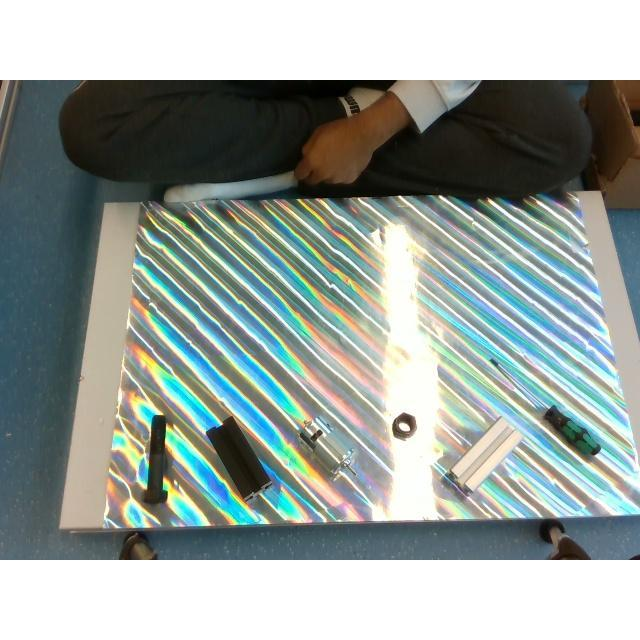M20: (392, 413, 416, 439)
M20_100: (139, 413, 167, 502)
Motor2: (296, 417, 356, 479)
S40_40_B: (206, 416, 270, 500)
S40_40_G: (446, 418, 522, 494)
Screwdriver: (491, 357, 602, 457)
